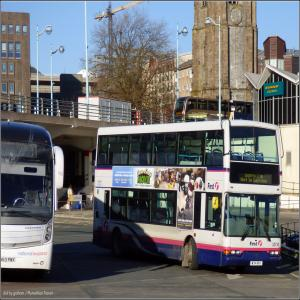Vehicle-registration-plate: (2, 258, 16, 263), (251, 262, 263, 266)
